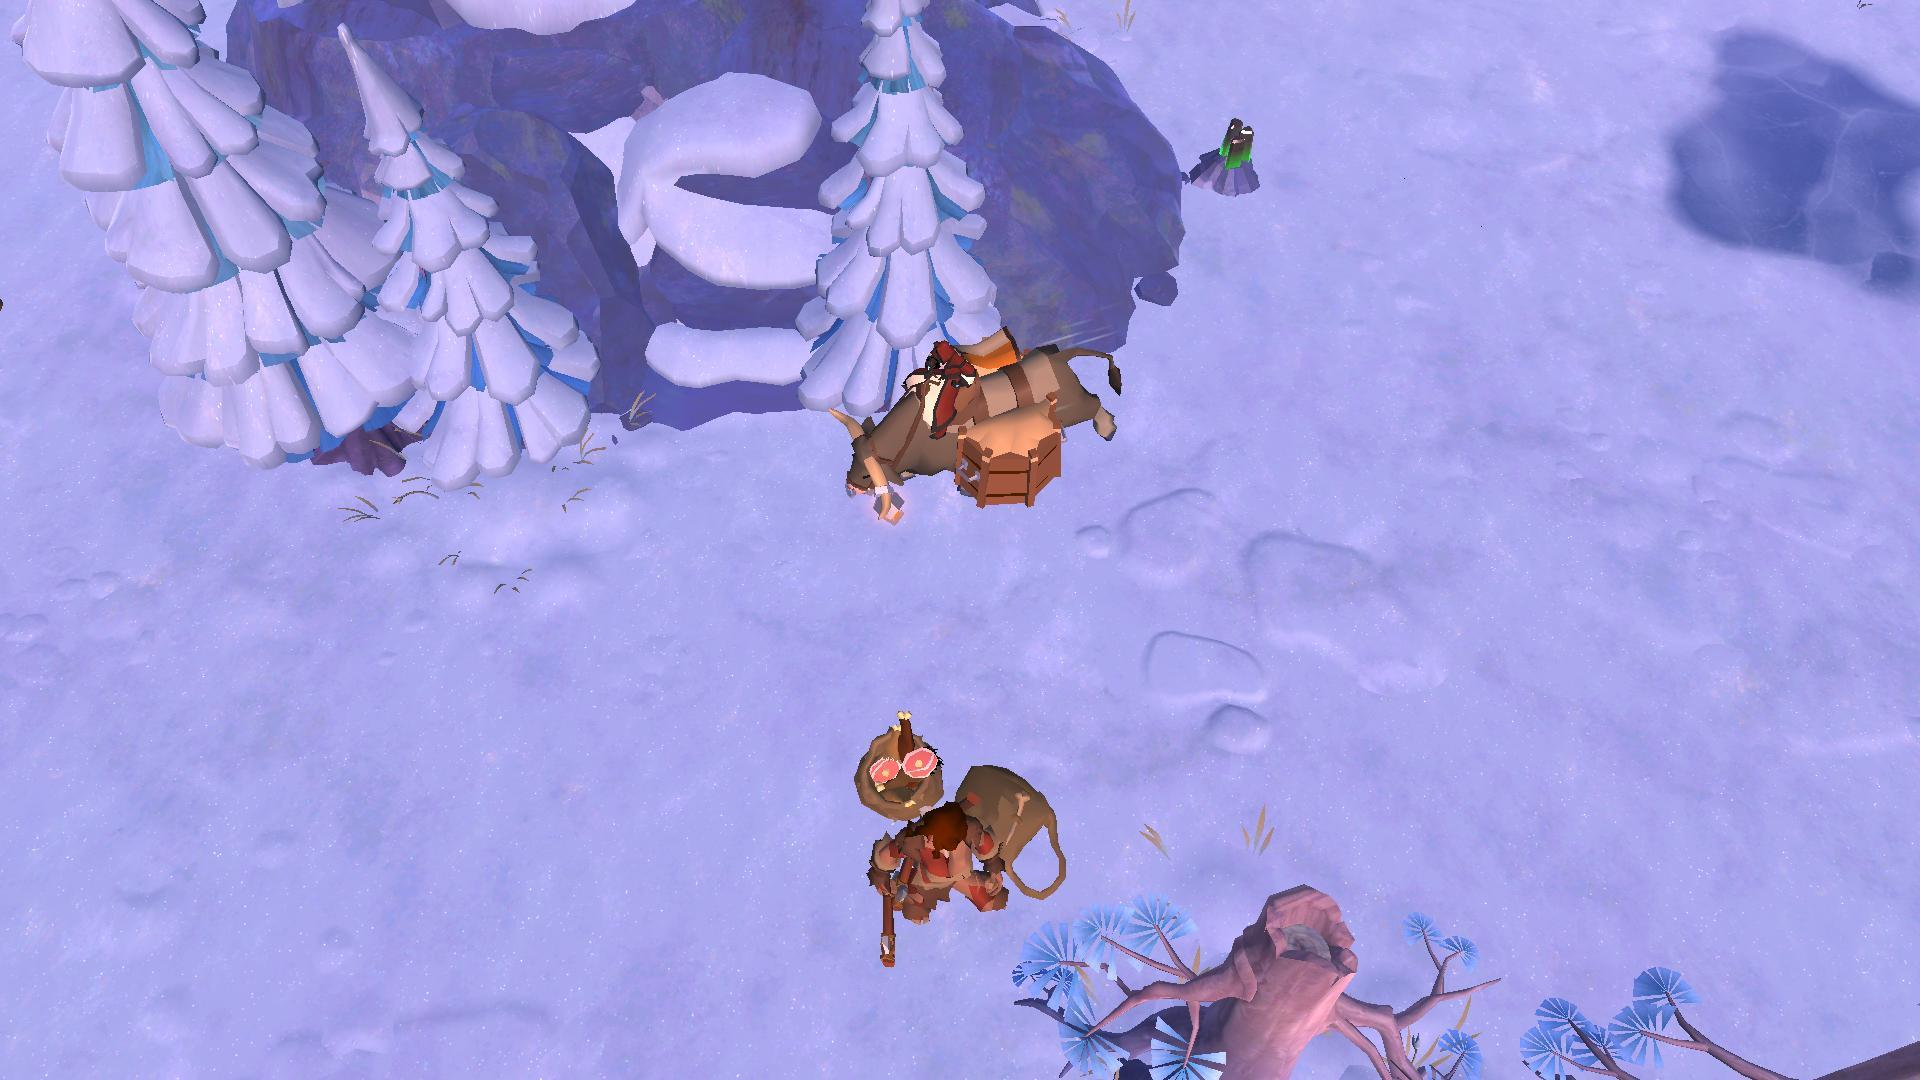enemy_factionKeeper: (876, 811, 1009, 961)
ore_t3: (1199, 111, 1261, 177)
